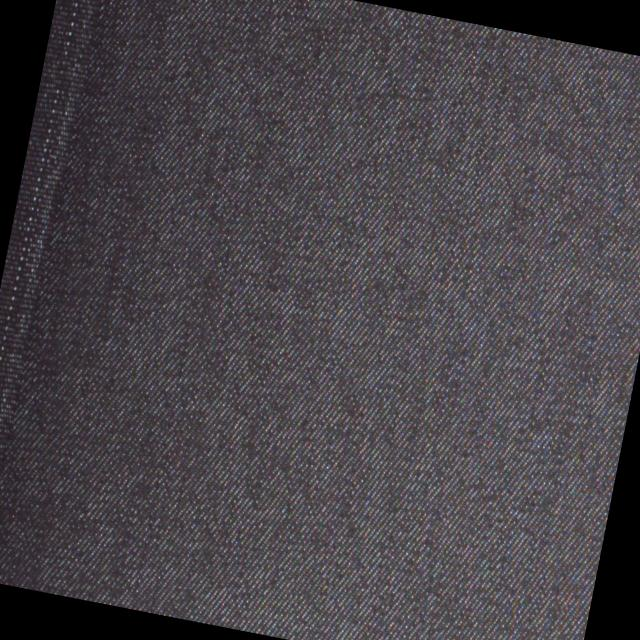Warp_Weft: (0, 0, 112, 582)
